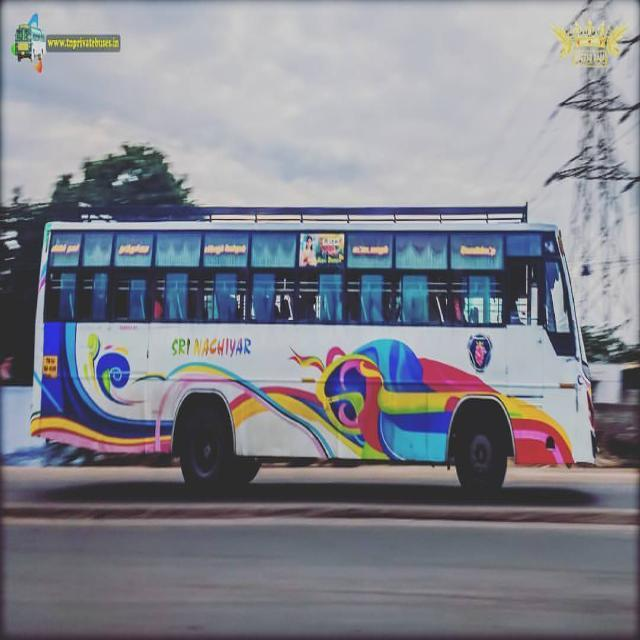Bus: (29, 199, 598, 495)
